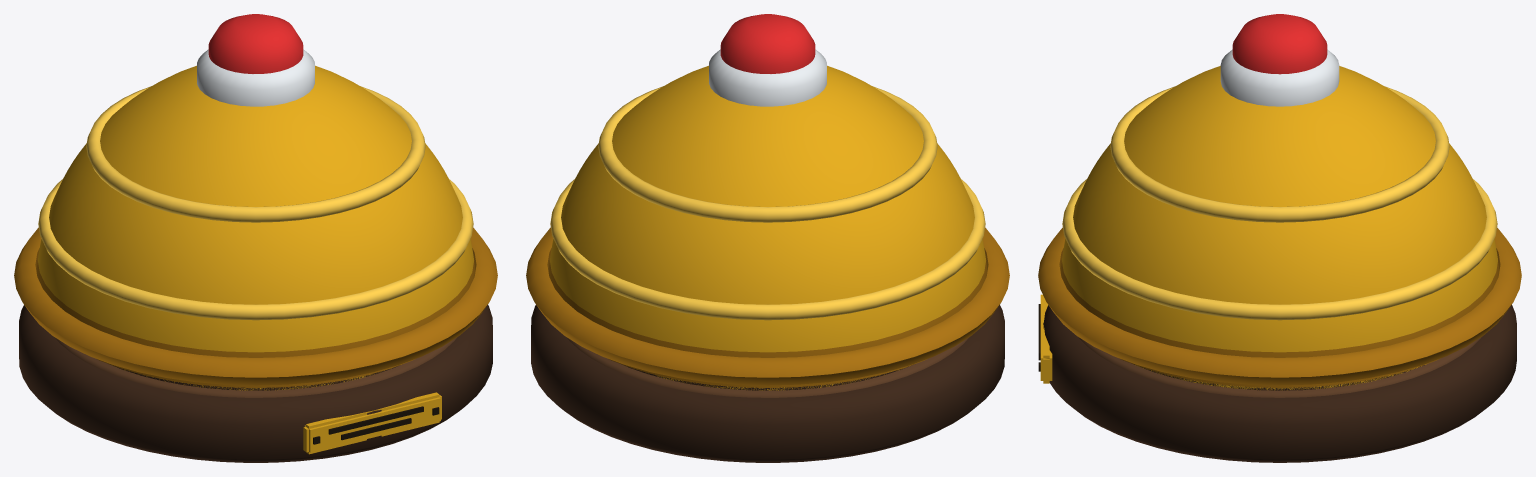
Rendered from service_bell.glb.
3 renders of one model, left to right at view 1: azimuth 30°, elevation 25°; view 2: azimuth 150°, elevation 25°; view 3: azimuth 270°, elevation 25°, orthographic.
Parts seen in each view (by area): view 1: ServiceBell; view 2: ServiceBell; view 3: ServiceBell.
Boxes of the visible parts, x1=… form: ServiceBell: x1=14, y1=14, x2=497, y2=462; ServiceBell: x1=526, y1=14, x2=1009, y2=462; ServiceBell: x1=1038, y1=14, x2=1521, y2=462.
Bounding box in the file's own units: 2.04 × 1.6 × 2.04.
